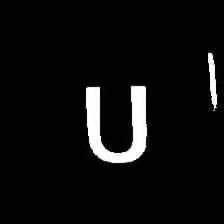LTR_U: (75, 75, 154, 170)
